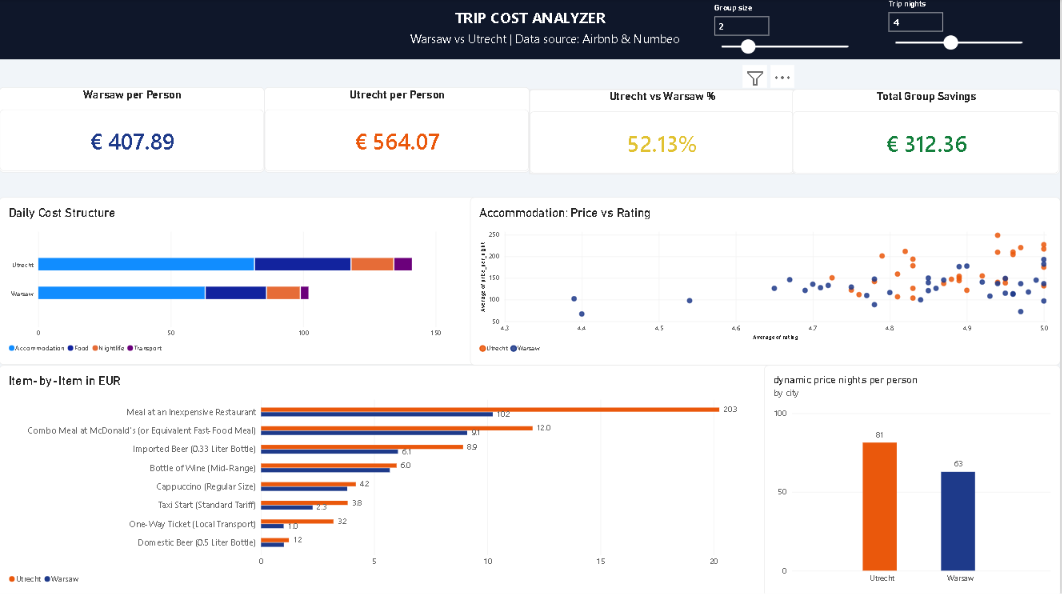

The dashboard page shown, as its layout file describes it:
{"tool":"powerbi","page":{"name":"Page 1","canvas":[1920,1080],"ordinal":0},"visuals":[{"type":"barChart","title":"Daily Cost Structure","fields":{"Category":["mart_trip_comparison.city"],"Y":["Sum(mart_trip_comparison.avg_accomod_per_one)","Sum(mart_trip_comparison.daily_food)","Sum(mart_trip_comparison.daily_nightlife)","Sum(mart_trip_comparison.daily_transport)"]},"box":[0,358.3,864,303.3],"z":2000},{"type":"clusteredBarChart","title":"Item-by-Item in EUR","fields":{"Category":["stg_prices.item_name"],"Series":["stg_prices.city"],"Y":["Sum(stg_prices.price_eur)"]},"box":[0,662,1400,418],"z":3000},{"type":"columnChart","fields":{"Category":["stg_accommodation.city"],"Y":["mart_trip_comparison.dynamic price nights per person"]},"box":[1384.4,662.3,535.7,418],"z":4000},{"type":"scatterChart","title":"Accommodation: Price vs Rating","fields":{"Category":["stg_accommodation.subtitle"],"Series":["stg_accommodation.city"],"X":["Avg(stg_accommodation.rating)"],"Y":["Avg(stg_accommodation.price_per_night)"]},"box":[852.5,357.5,1068,304],"z":5000},{"type":"shape","box":[0,0,1920.4,109.1],"z":6000},{"type":"textbox","box":[825.4,14.4,393.1,94.7],"z":7000},{"type":"textbox","box":[738.9,55.6,504.3,53.5],"z":8000},{"type":"cardVisual","title":"Warsaw per Person","fields":{"Data":["mart_trip_comparison.Warsaw Total Per Person"]},"box":[0,160,480,154],"z":9000},{"type":"cardVisual","title":"Utrecht vs Warsaw %","fields":{"Data":["mart_trip_comparison.Utrecht vs Warsaw %"]},"box":[960,162,480,154],"z":10000},{"type":"cardVisual","title":"Total Group Savings","fields":{"Data":["mart_trip_comparison.Group Savings in Warsaw"]},"box":[1435.1,162.9,485,153.8],"z":11000},{"type":"cardVisual","title":"Utrecht per Person","fields":{"Data":["mart_trip_comparison.Utrecht Total Per Person"]},"box":[480,160,480,154],"z":12000},{"type":"slicer","fields":{"Values":["Trip nights.Trip nights"]},"box":[1602,0,266,148],"z":12500},{"type":"slicer","fields":{"Values":["Group size.Group size"]},"box":[1286,8,266,148],"z":13000}]}

Visuals, with their boxes in screenshot pixels (x1, y1, x2, y2), scaled from the page's 1920x1080 canvas onto the 1062x594 screenshot:
"Daily Cost Structure" barChart: x1=0 y1=197 x2=478 y2=364
"Item-by-Item in EUR" clusteredBarChart: x1=0 y1=364 x2=774 y2=593
columnChart - stg_accommodation.city x mart_trip_comparison.dynamic price nights per person: x1=766 y1=364 x2=1061 y2=593
"Accommodation: Price vs Rating" scatterChart: x1=472 y1=197 x2=1061 y2=364
shape: x1=0 y1=0 x2=1061 y2=60
textbox: x1=457 y1=8 x2=674 y2=60
textbox: x1=409 y1=31 x2=688 y2=60
"Warsaw per Person" cardVisual: x1=0 y1=88 x2=266 y2=173
"Utrecht vs Warsaw %" cardVisual: x1=531 y1=89 x2=796 y2=174
"Total Group Savings" cardVisual: x1=794 y1=90 x2=1061 y2=174
"Utrecht per Person" cardVisual: x1=266 y1=88 x2=531 y2=173
slicer - Trip nights.Trip nights: x1=886 y1=0 x2=1033 y2=81
slicer - Group size.Group size: x1=711 y1=4 x2=858 y2=86
